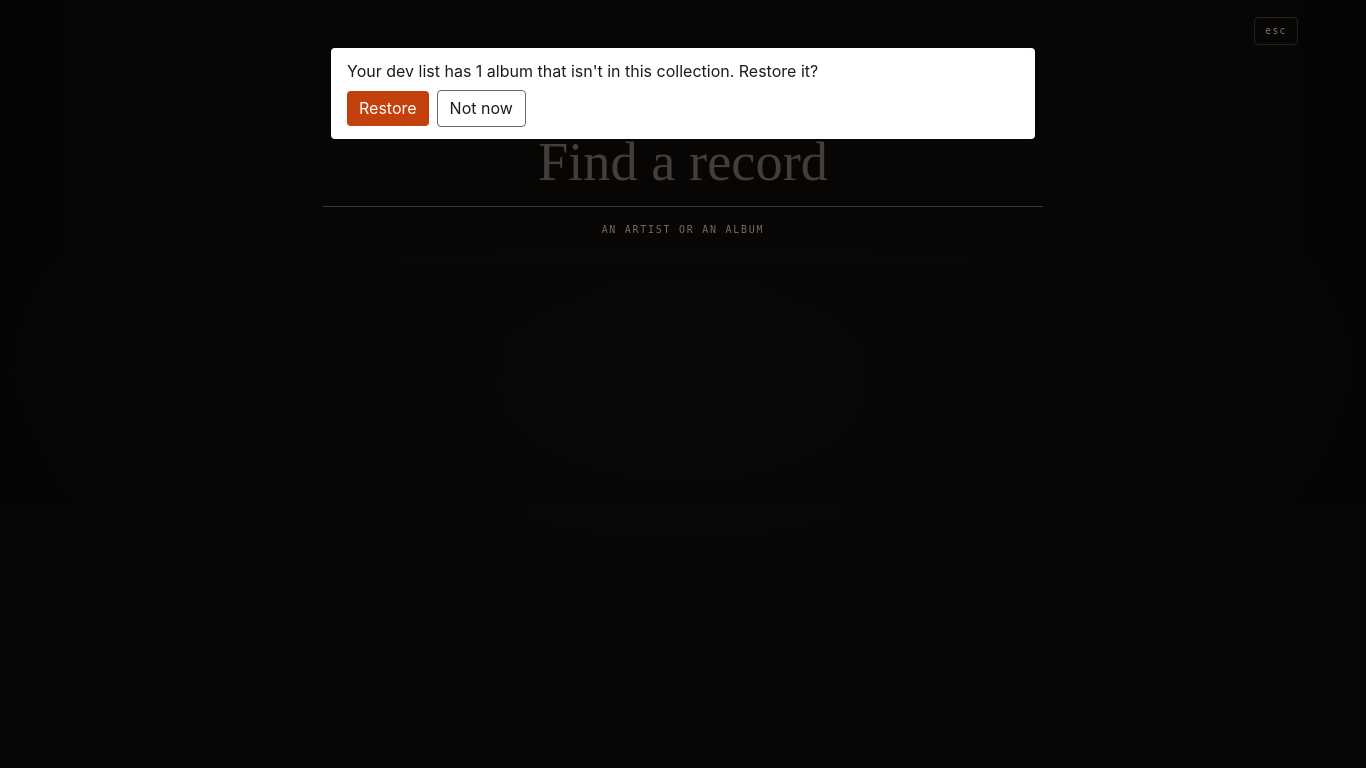
it: The dev list › says it's restoring while it waits
Click the button "Restore" at coordinates (388, 109), box [347, 91, 429, 126]
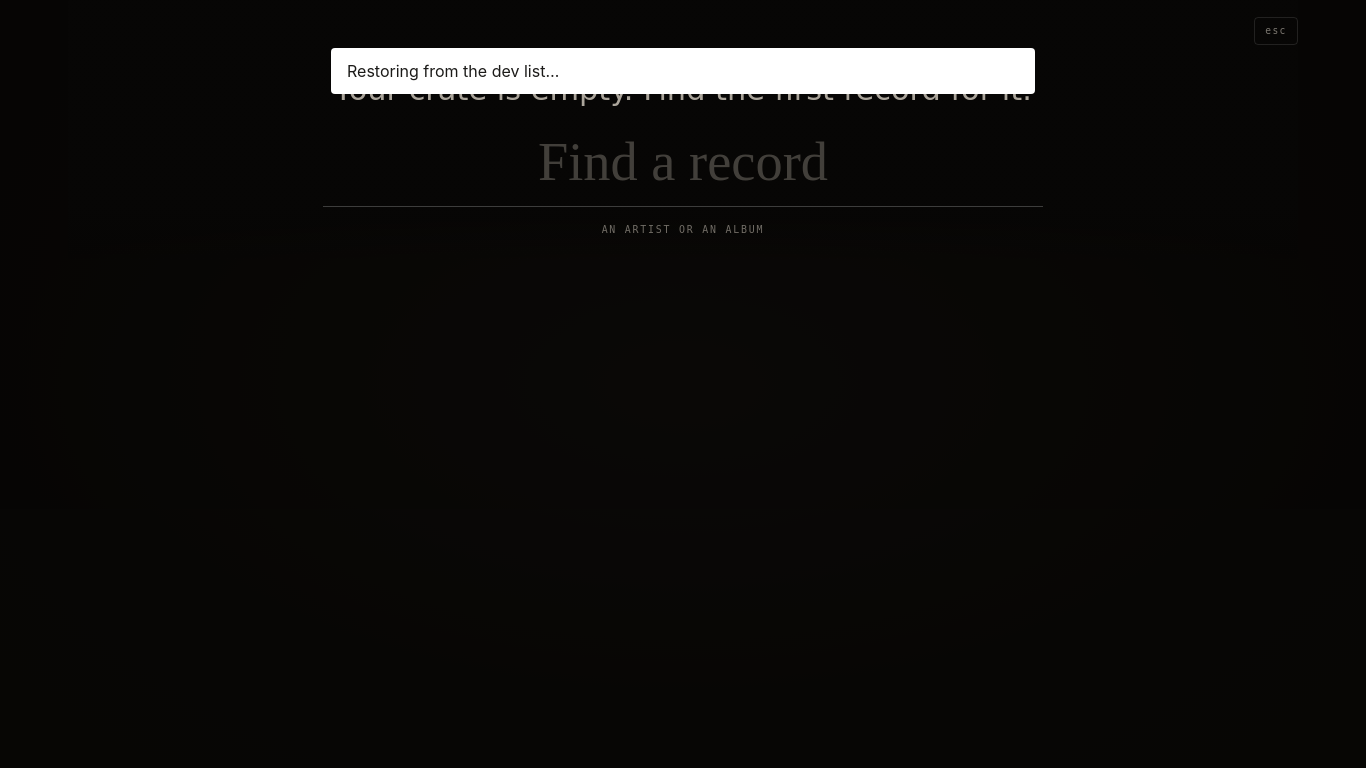
Result: the element "dev list" reads "Restoring from the dev list…" at [347, 61, 559, 81]
